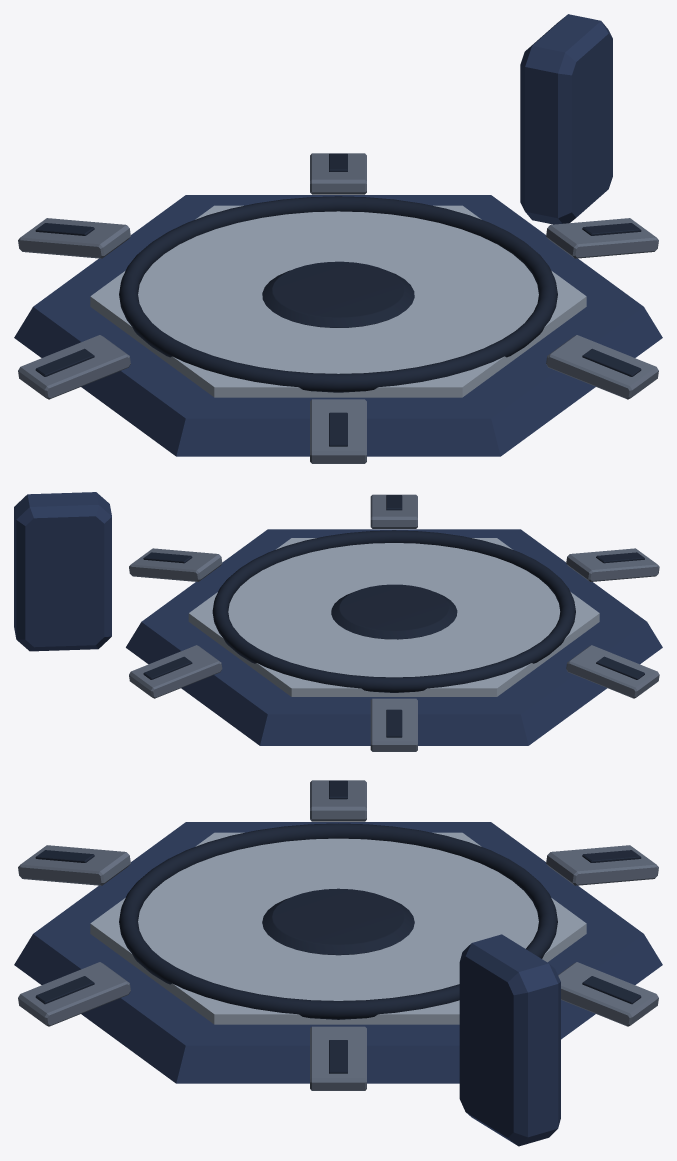
The model's file is shared_teleporter_pad_idle.glb.
The picture shows the model from 3 angles, top to bottom: view 1: azimuth 30°, elevation 25°; view 2: azimuth 150°, elevation 25°; view 3: azimuth 270°, elevation 25°; orthographic projection. The views are drawn at different scales.
Visible parts, largest first — view 1: tele_plate, tele_base, tele_console, tele_ring, tele_core, tele_petal_blade1, tele_petal_blade3, tele_petal_blade2, tele_petal_blade0, tele_petal_blade4, tele_petal_blade5, tele_petal_lamp1 (+2 smaller); view 2: tele_plate, tele_base, tele_console, tele_ring, tele_core, tele_petal_blade3, tele_petal_blade5, tele_petal_blade4, tele_petal_blade0, tele_petal_blade2, tele_petal_blade1, tele_petal_lamp4 (+2 smaller); view 3: tele_plate, tele_base, tele_console, tele_ring, tele_core, tele_petal_blade1, tele_petal_blade5, tele_petal_blade0, tele_petal_blade2, tele_petal_blade4, tele_petal_blade3, tele_petal_lamp1 (+4 smaller).
Boxes of the visible parts, bbox=[...] form: tele_plate: bbox=[90, 205, 586, 397]; tele_base: bbox=[14, 195, 662, 456]; tele_console: bbox=[520, 14, 612, 224]; tele_ring: bbox=[119, 196, 557, 392]; tele_core: bbox=[262, 261, 414, 327]; tele_petal_blade1: bbox=[546, 335, 658, 399]; tele_petal_blade3: bbox=[18, 335, 130, 399]; tele_petal_blade2: bbox=[310, 399, 366, 463]; tele_petal_blade0: bbox=[546, 218, 658, 258]; tele_petal_blade4: bbox=[18, 218, 130, 258]; tele_petal_blade5: bbox=[310, 153, 366, 194]; tele_petal_lamp1: bbox=[582, 348, 641, 376]; tele_plate: bbox=[188, 538, 599, 696]; tele_base: bbox=[126, 529, 662, 745]; tele_console: bbox=[14, 492, 111, 651]; tele_ring: bbox=[212, 530, 575, 692]; tele_core: bbox=[331, 584, 457, 639]; tele_petal_blade3: bbox=[566, 645, 659, 698]; tele_petal_blade5: bbox=[129, 645, 222, 698]; tele_petal_blade4: bbox=[370, 698, 417, 751]; tele_petal_blade0: bbox=[129, 548, 222, 581]; tele_petal_blade2: bbox=[566, 548, 659, 581]; tele_petal_blade1: bbox=[370, 494, 417, 528]; tele_petal_lamp4: bbox=[386, 709, 402, 737]; tele_plate: bbox=[90, 832, 586, 1024]; tele_base: bbox=[14, 822, 662, 1083]; tele_console: bbox=[459, 934, 560, 1146]; tele_ring: bbox=[119, 823, 557, 1019]; tele_core: bbox=[262, 888, 414, 955]; tele_petal_blade1: bbox=[18, 962, 130, 1026]; tele_petal_blade5: bbox=[558, 962, 658, 1026]; tele_petal_blade0: bbox=[310, 1026, 366, 1090]; tele_petal_blade2: bbox=[18, 845, 130, 885]; tele_petal_blade4: bbox=[546, 845, 658, 885]; tele_petal_blade3: bbox=[310, 780, 366, 821]; tele_petal_lamp1: bbox=[35, 976, 94, 1004].
Size of the model in its own units: 4.06 by 1.01 by 3.4.
